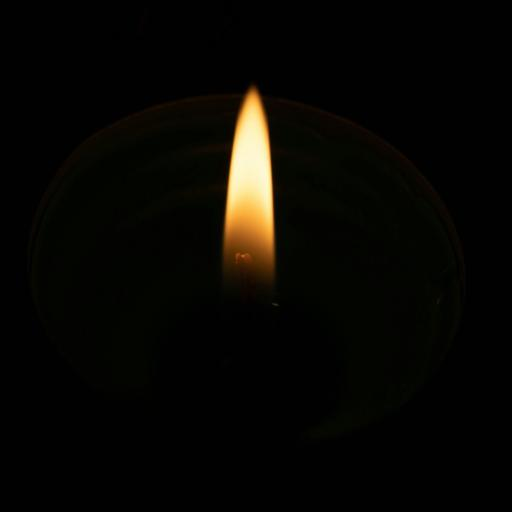fire: (221, 50, 283, 312)
